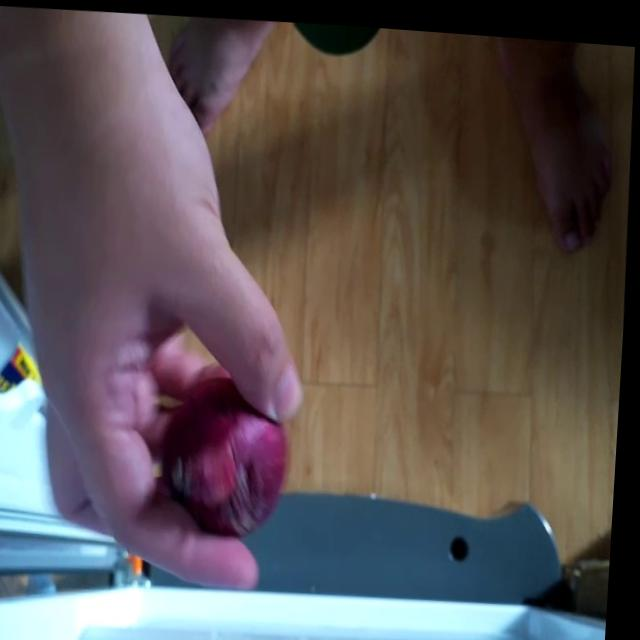onion: (160, 353, 295, 544)
